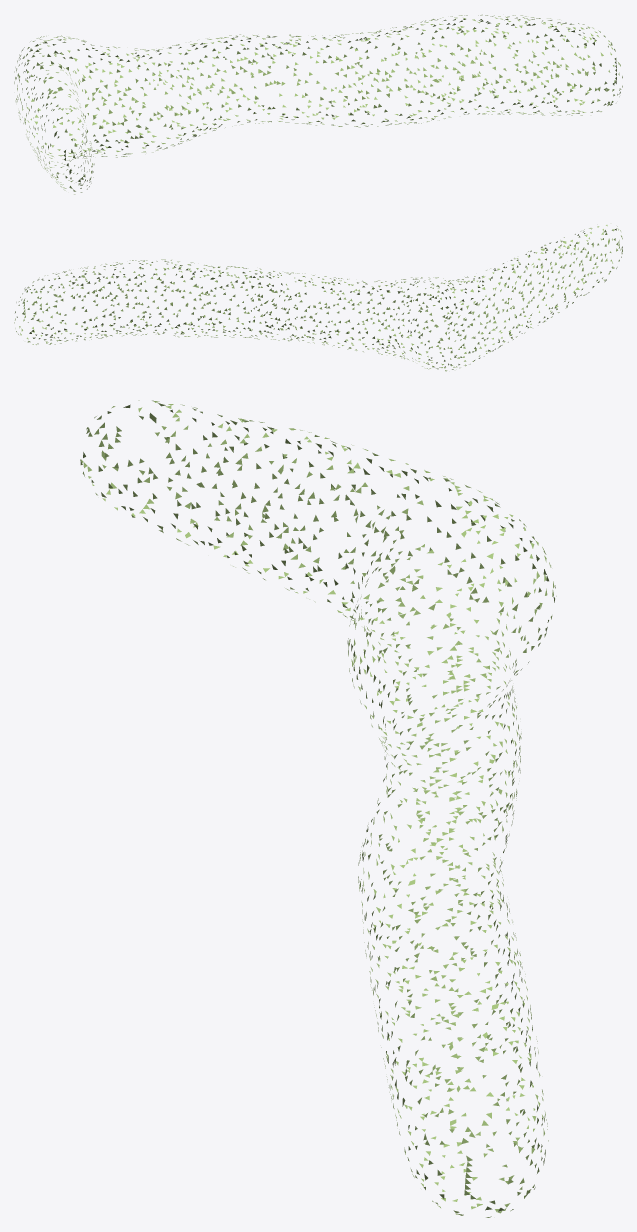
File: morph_012.glb
The picture shows the model from 3 angles, top to bottom: view 1: azimuth 30°, elevation 25°; view 2: azimuth 150°, elevation 25°; view 3: azimuth 270°, elevation 25°; orthographic projection. The views are drawn at different scales.
Size of the model in its own units: 123 by 39.84 by 49.77.
